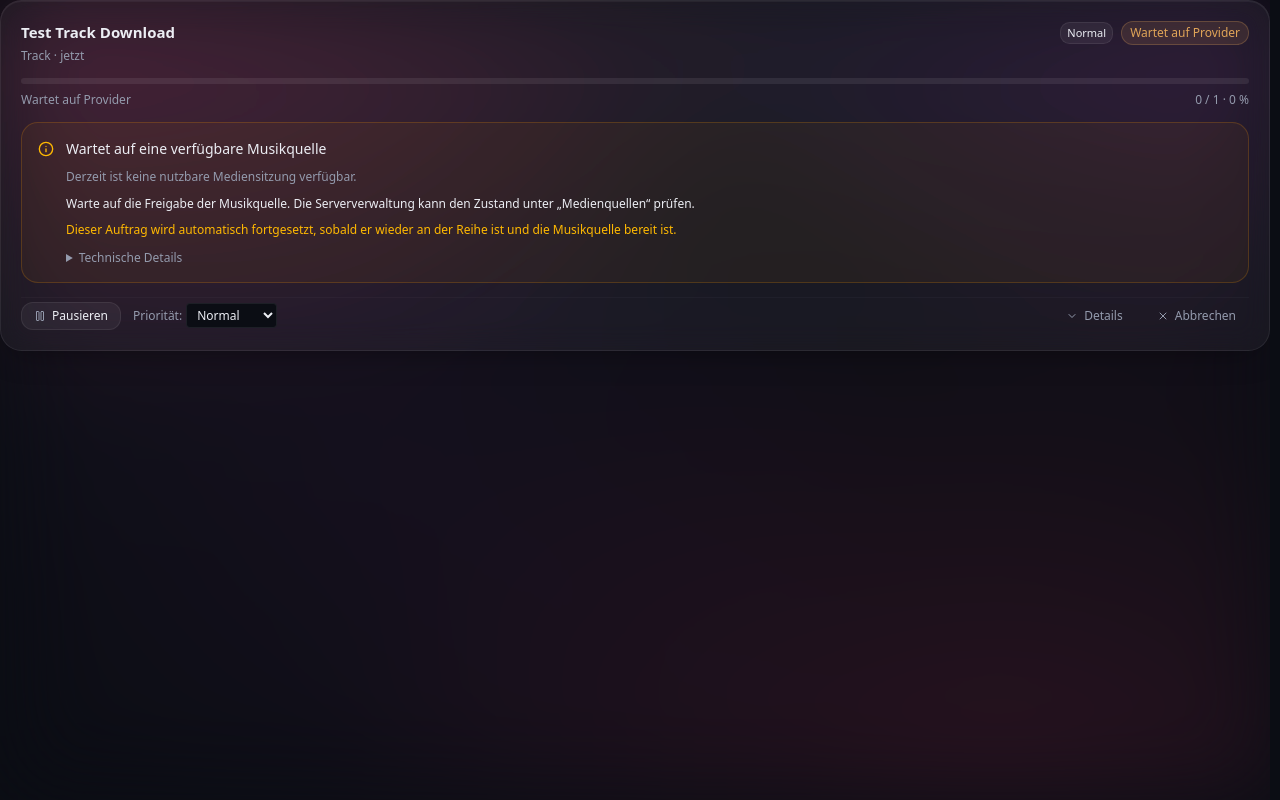
Scenario: JobCard – Step 4 Honest "Waiting for Provider" UX › 2. retry_wait + SESSION_UNAVAILABLE + future retry time displays automatic continuation time
What coordinates should you click on to do the following:
click the button "Details"
I would click on:
 (1094, 316)
Its box is [1053,302,1136,330].
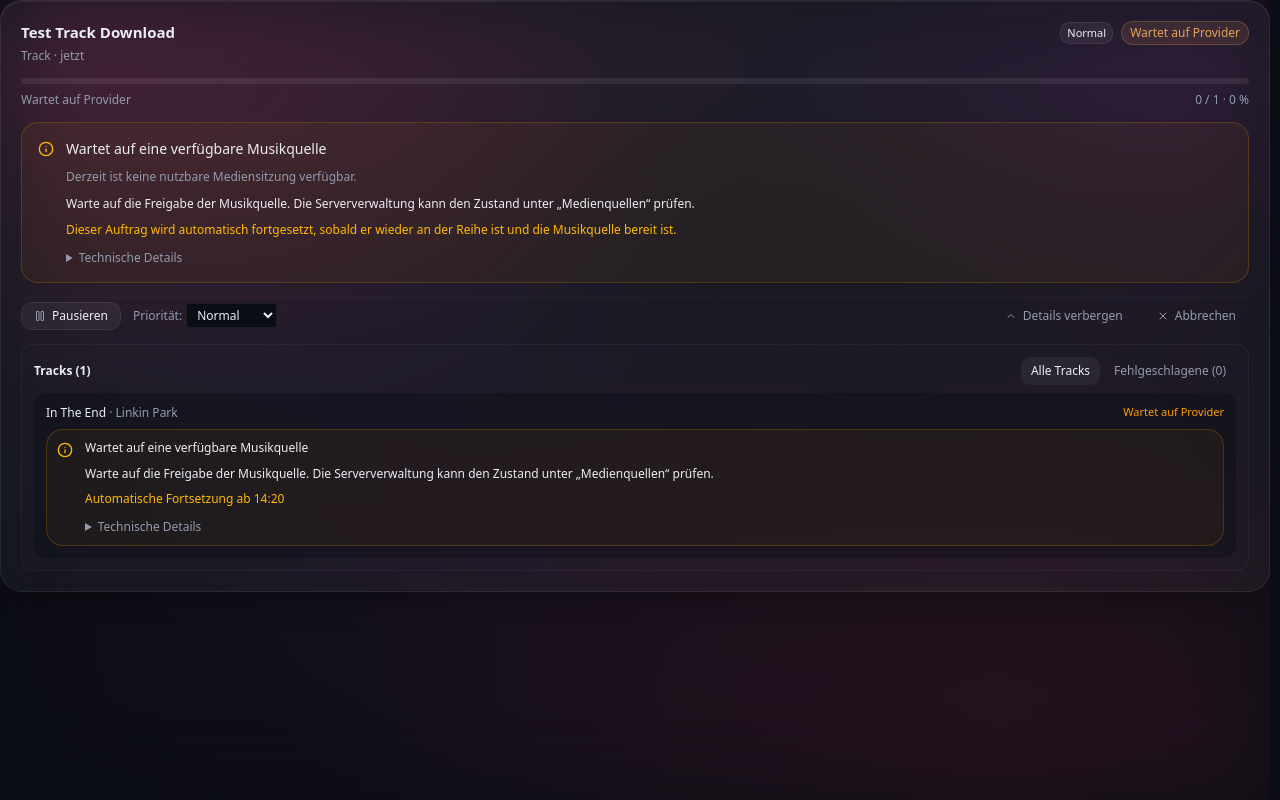
Now the text "Automatische Fortsetzung ab 14:20" is shown, box [85,490,284,507]
